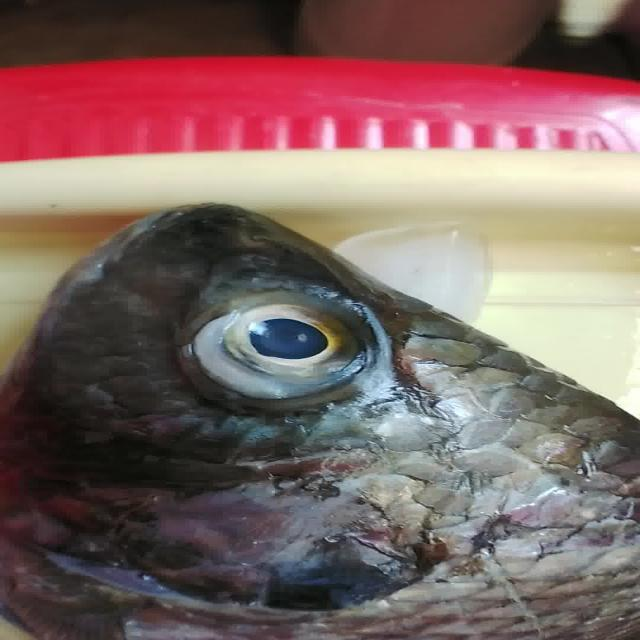Fresh: (162, 287, 398, 410)
